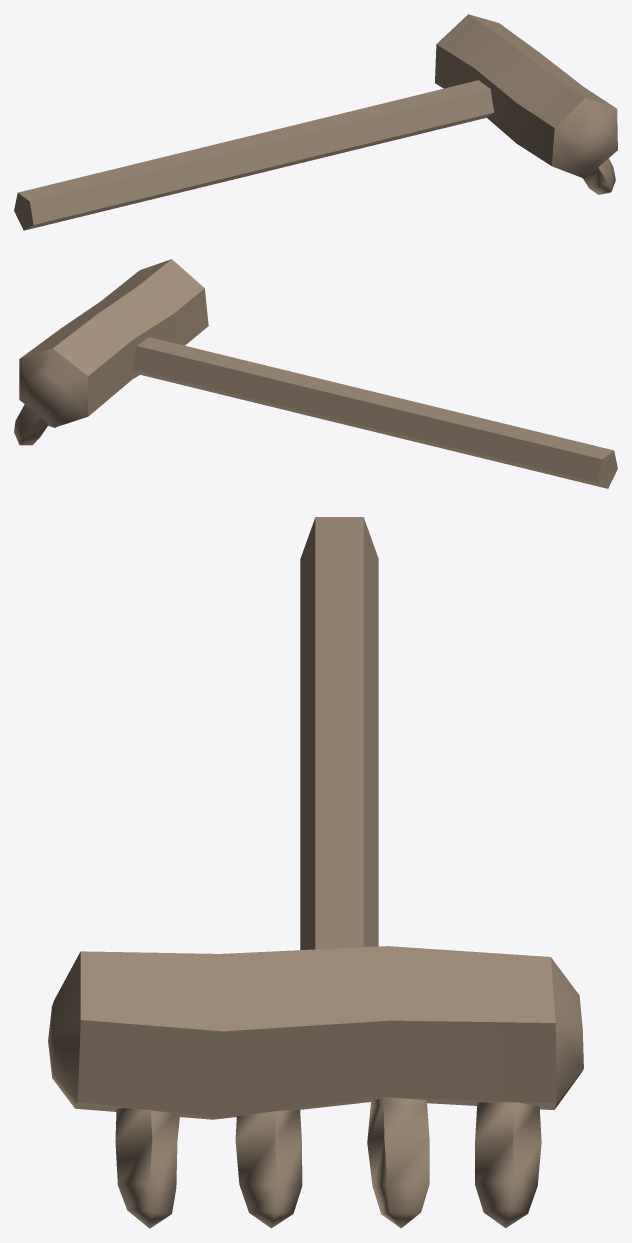
File: rake.fbx
3 views of the same model, one above another, from view 1: azimuth 30°, elevation 25°; view 2: azimuth 150°, elevation 25°; view 3: azimuth 270°, elevation 25° (orthographic). The views are drawn at different scales.
Parts seen in each view (by area): view 1: handle, main, stem1; view 2: handle, main, stem4; view 3: main, handle, stem4, stem3, stem2, stem1.
Boxes of the visible parts, box(x1,y1,x2,y2) form: handle: box(14, 80, 494, 230); main: box(435, 14, 617, 178); stem1: box(583, 158, 615, 194); handle: box(132, 337, 617, 488); main: box(19, 259, 208, 427); stem4: box(14, 404, 48, 445); main: box(48, 946, 583, 1119); handle: box(300, 517, 378, 949); stem4: box(475, 1102, 541, 1228); stem3: box(367, 1097, 429, 1228); stem2: box(235, 1109, 302, 1228); stem1: box(115, 1108, 179, 1228).
Size of the model in its own units: 1.33 by 0.2777 by 0.5637.
